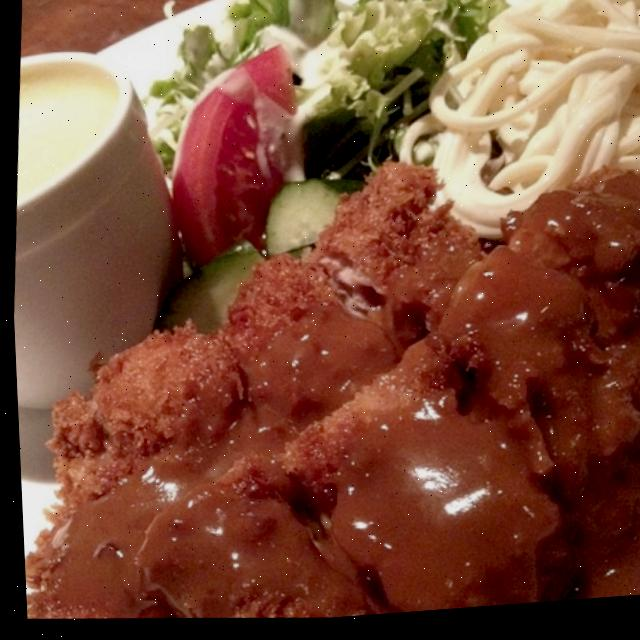鸡肉料理 含炸鸡: (5, 109, 640, 640)
